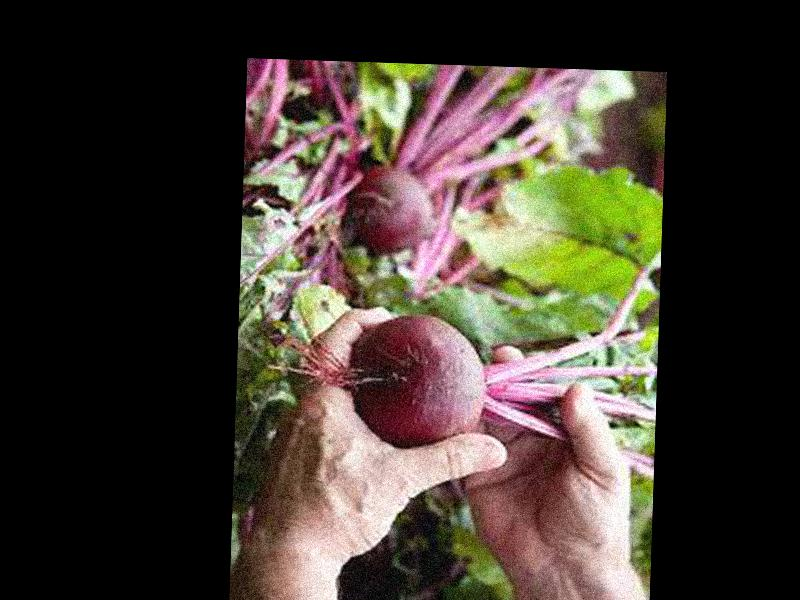Beet: (346, 239, 658, 459)
